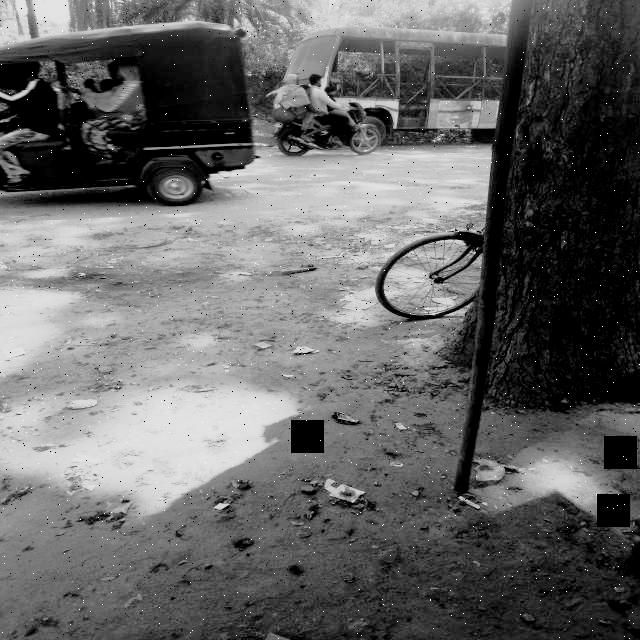Auto-Rickshaw: (0, 18, 266, 212)
